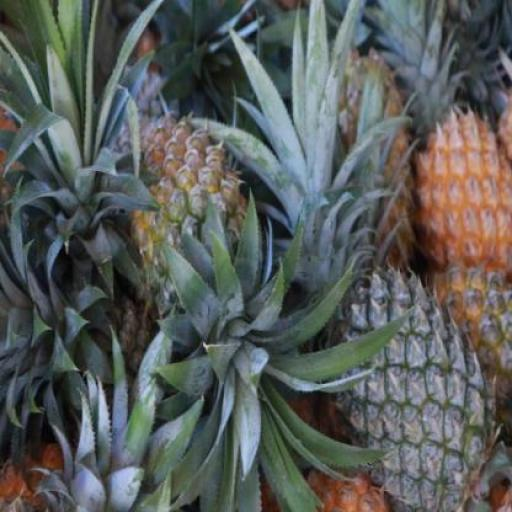------------------------------: (123, 112, 262, 322)
Pineapple - v8 v1: (416, 103, 512, 285)
